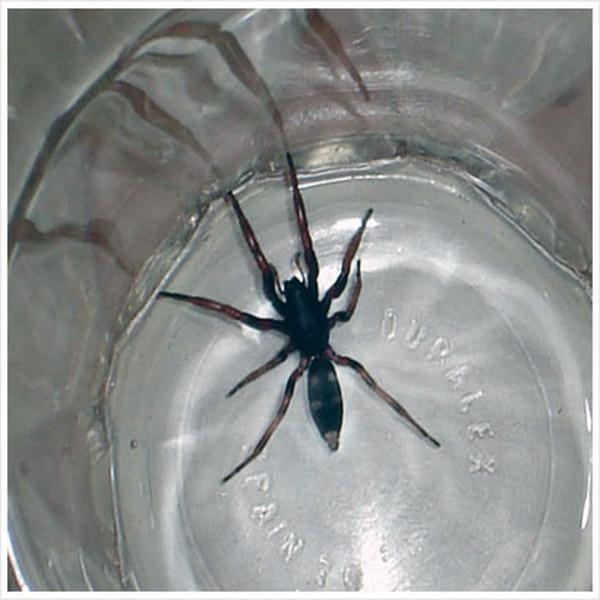White-Tailed_Spider: (158, 151, 441, 487)
